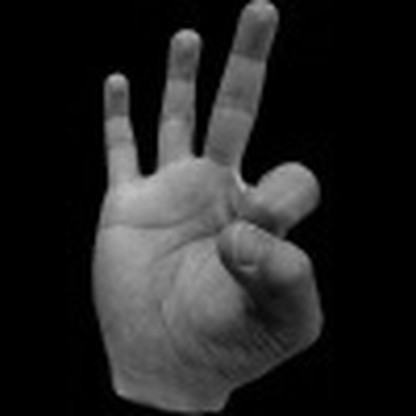f: (69, 3, 333, 378)
